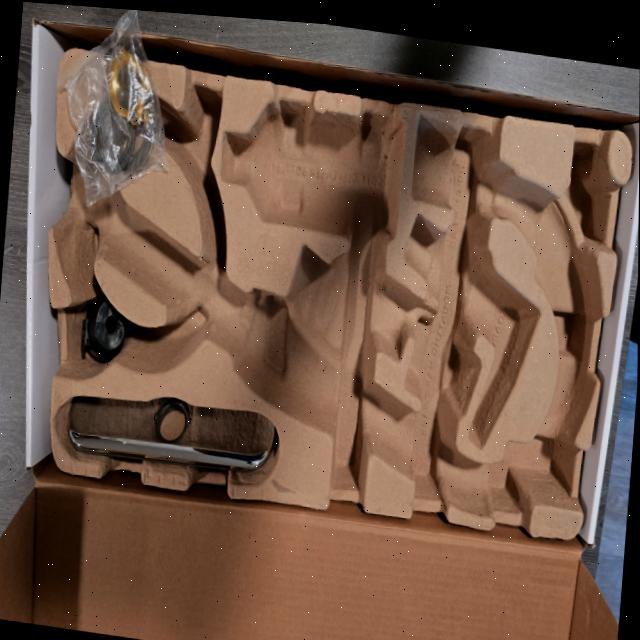1m: (51, 117, 598, 516)
2m: (403, 216, 538, 447)
3m: (218, 104, 404, 236)
4: (66, 395, 274, 472)
5: (79, 295, 126, 365)
6: (56, 9, 167, 212)
7m: (172, 86, 222, 223)
